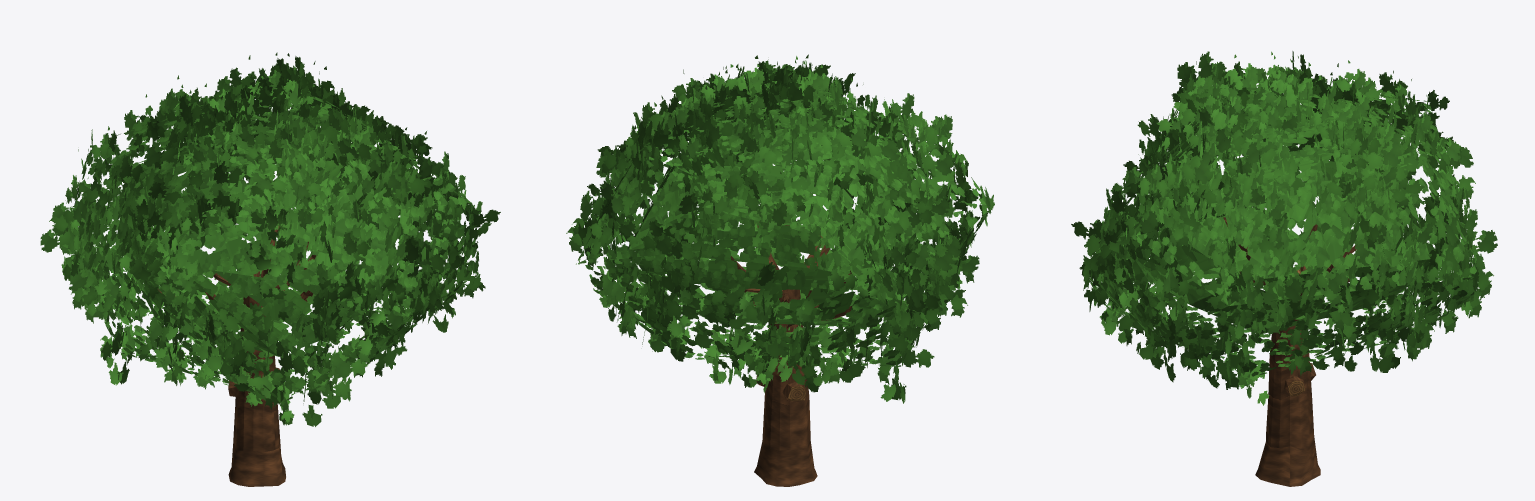
The model's file is cow_tree_0.glb.
The picture shows the model from 3 angles, left to right: view 1: azimuth 30°, elevation 25°; view 2: azimuth 150°, elevation 25°; view 3: azimuth 270°, elevation 25°; orthographic projection. The views are drawn at different scales.
Visible parts, largest first — view 1: __exp_cow_tree_0_Canopy_Stump, __exp_cow_tree_0_LeafBlob_Skirt_Canopy_Stump.003, __exp_cow_tree_0_LeafBlob_Skirt_Canopy_Stump.001_inner.001, __exp_cow_tree_0_Trunk_Stump, __exp_cow_tree_0_Stump; view 2: __exp_cow_tree_0_Canopy_Stump, __exp_cow_tree_0_LeafBlob_Skirt_Canopy_Stump.003, __exp_cow_tree_0_LeafBlob_Skirt_Canopy_Stump.001_inner.001, __exp_cow_tree_0_Trunk_Stump, __exp_cow_tree_0_Stump; view 3: __exp_cow_tree_0_Canopy_Stump, __exp_cow_tree_0_LeafBlob_Skirt_Canopy_Stump.003, __exp_cow_tree_0_LeafBlob_Skirt_Canopy_Stump.001_inner.001, __exp_cow_tree_0_Trunk_Stump, __exp_cow_tree_0_Stump.
Part boxes in pixels (x1=…): __exp_cow_tree_0_Canopy_Stump: x1=40, y1=52, x2=500, y2=426; __exp_cow_tree_0_LeafBlob_Skirt_Canopy_Stump.003: x1=68, y1=88, x2=478, y2=401; __exp_cow_tree_0_LeafBlob_Skirt_Canopy_Stump.001_inner.001: x1=117, y1=120, x2=423, y2=356; __exp_cow_tree_0_Trunk_Stump: x1=157, y1=225, x2=318, y2=452; __exp_cow_tree_0_Stump: x1=228, y1=443, x2=285, y2=486; __exp_cow_tree_0_Canopy_Stump: x1=566, y1=54, x2=994, y2=403; __exp_cow_tree_0_LeafBlob_Skirt_Canopy_Stump.003: x1=576, y1=85, x2=988, y2=366; __exp_cow_tree_0_LeafBlob_Skirt_Canopy_Stump.001_inner.001: x1=628, y1=114, x2=935, y2=327; __exp_cow_tree_0_Trunk_Stump: x1=730, y1=225, x2=852, y2=450; __exp_cow_tree_0_Stump: x1=754, y1=441, x2=817, y2=486; __exp_cow_tree_0_Canopy_Stump: x1=1071, y1=51, x2=1497, y2=405; __exp_cow_tree_0_LeafBlob_Skirt_Canopy_Stump.003: x1=1089, y1=80, x2=1479, y2=376; __exp_cow_tree_0_LeafBlob_Skirt_Canopy_Stump.001_inner.001: x1=1135, y1=113, x2=1430, y2=334; __exp_cow_tree_0_Trunk_Stump: x1=1223, y1=217, x2=1356, y2=448; __exp_cow_tree_0_Stump: x1=1255, y1=438, x2=1320, y2=486.
Size of the model in its own units: 5.92 by 5.84 by 5.7.
Materials: 5 (5 with a texture image).
